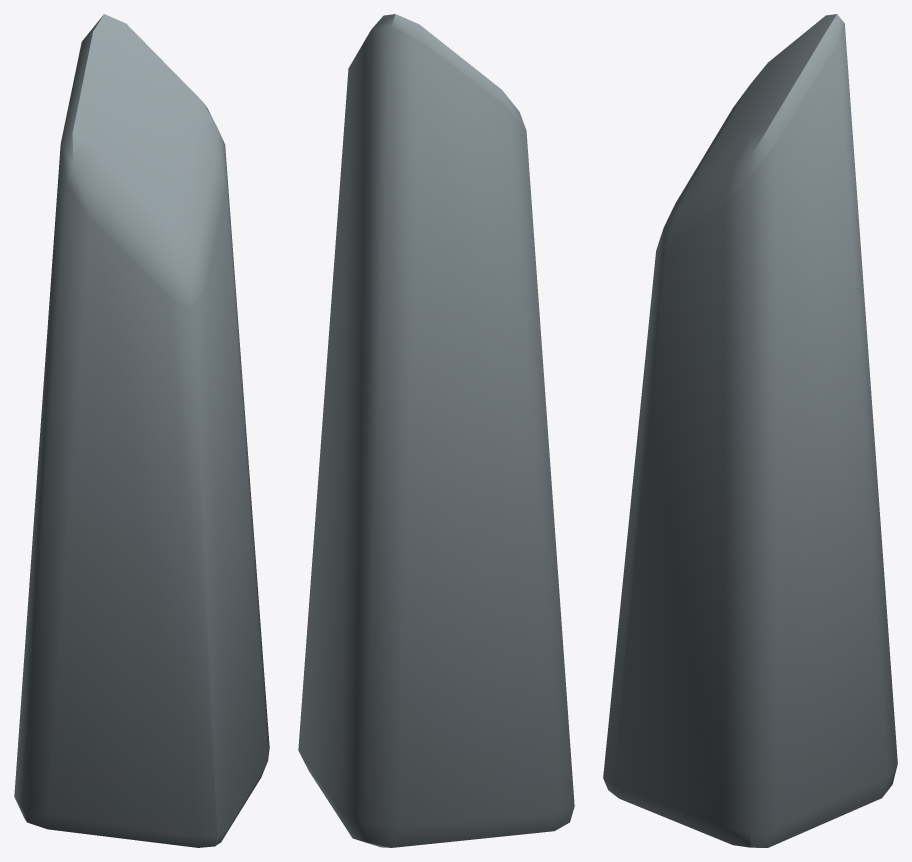
Rendered from Rock_4_C_Color1.gltf.
3 renders of one model, left to right at view 1: azimuth 30°, elevation 25°; view 2: azimuth 150°, elevation 25°; view 3: azimuth 270°, elevation 25°, orthographic. The views are drawn at different scales.
Parts seen in each view (by area): view 1: Rock_4_C_Color1; view 2: Rock_4_C_Color1; view 3: Rock_4_C_Color1.
Boxes of the visible parts, x1,y1,x2,y2 form: Rock_4_C_Color1: (14, 14, 269, 847); Rock_4_C_Color1: (298, 14, 574, 847); Rock_4_C_Color1: (603, 14, 897, 847).
Bounding box in the file's own units: 1.01 × 2.97 × 1.01.
Materials: 1 (1 with a texture image).
